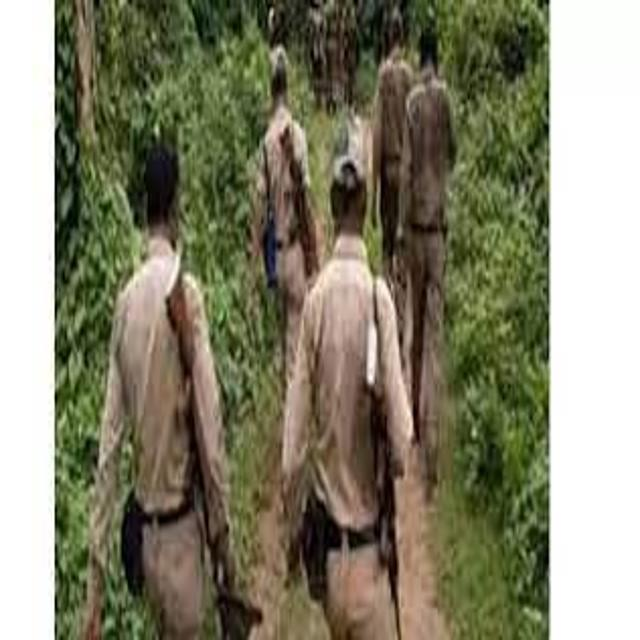gun: (135, 221, 267, 640), (255, 107, 340, 305)
ranger: (55, 87, 279, 638), (238, 127, 461, 638), (342, 8, 516, 498), (213, 20, 362, 407), (339, 7, 452, 323)
